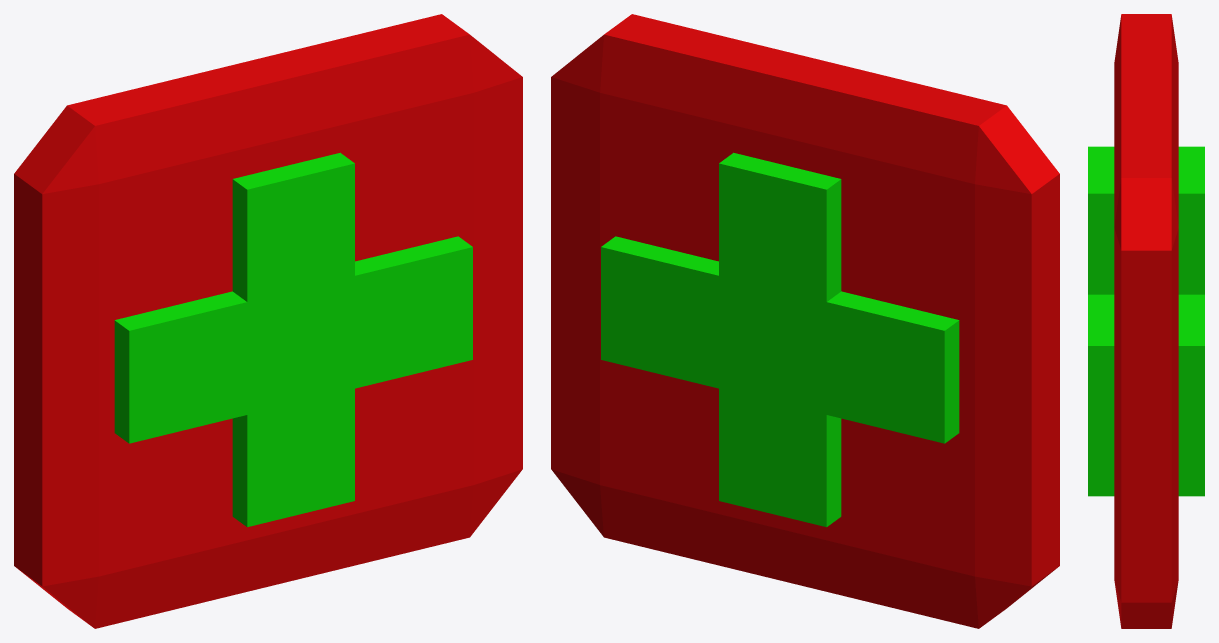
The model's file is healthpack.fbx.
The picture shows the model from 3 angles, left to right: view 1: azimuth 30°, elevation 25°; view 2: azimuth 150°, elevation 25°; view 3: azimuth 270°, elevation 25°; orthographic projection. The views are drawn at different scales.
Visible parts, largest first — view 1: Cube; view 2: Cube; view 3: Cube.
Part boxes in pixels (left/top/right/bottom): Cube: left=14, top=14, right=522, bottom=628; Cube: left=551, top=14, right=1059, bottom=628; Cube: left=1088, top=14, right=1204, bottom=628.
Bounding box in the file's own units: 200 × 200 × 47.01.
